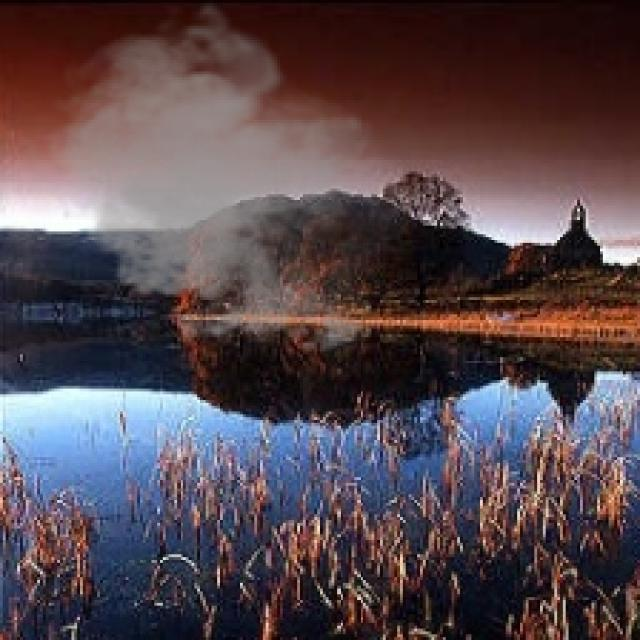Smoke: (34, 0, 429, 363)
